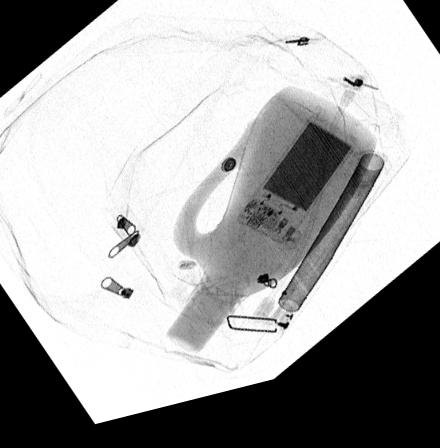Powerbank: (236, 132, 356, 260)
